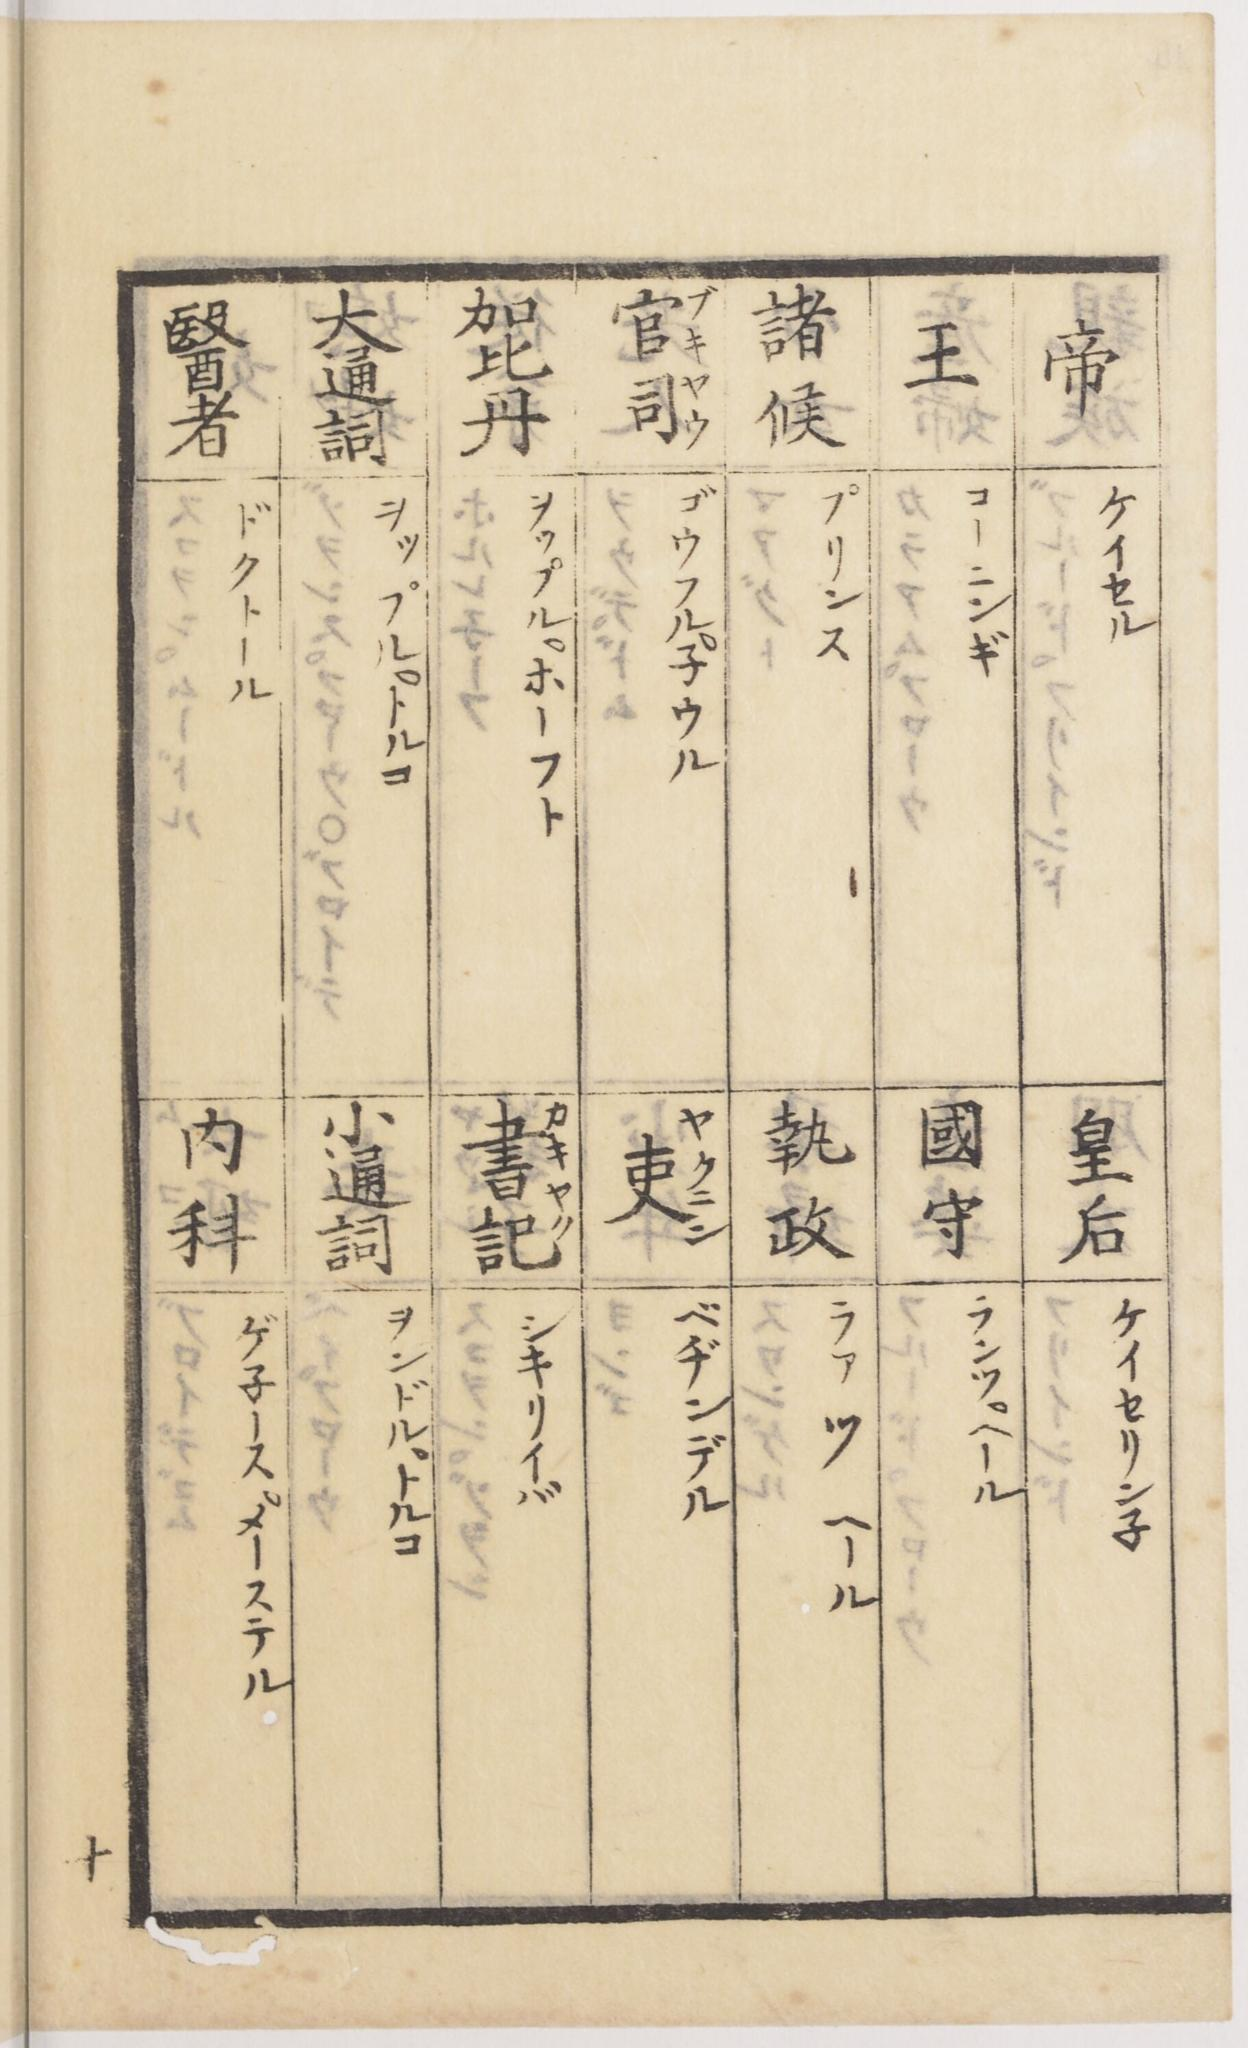MainZone-Character: (607, 1103, 730, 1252), (459, 1099, 575, 1200), (462, 1185, 575, 1277), (606, 279, 724, 363), (617, 366, 720, 456)
MainZone-Ruby: (679, 1102, 732, 1248), (683, 279, 720, 366), (680, 372, 714, 448), (544, 1097, 572, 1182), (547, 1185, 578, 1248)
